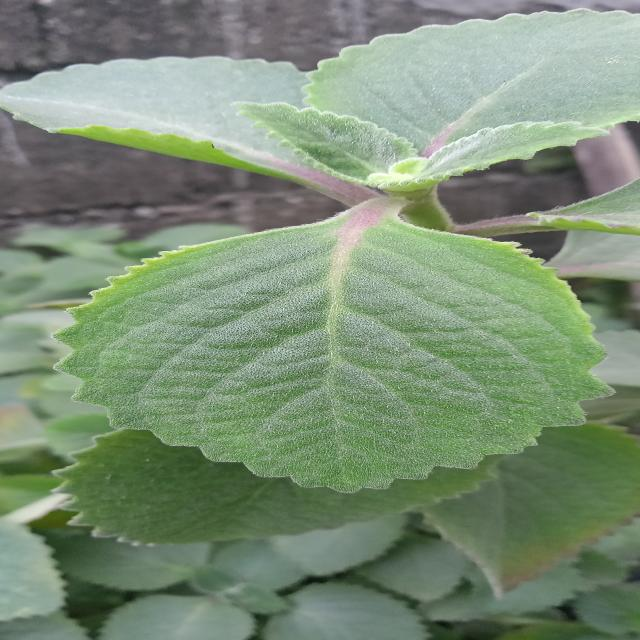Oregano: (36, 196, 636, 504)
